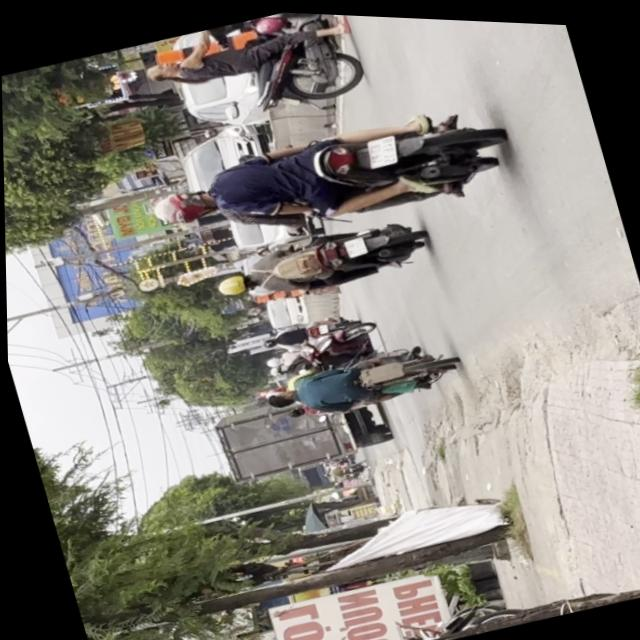helmet: (147, 178, 217, 229), (212, 265, 253, 297)
licenseplate: (134, 74, 519, 274), (131, 5, 379, 152), (205, 201, 433, 315), (251, 321, 462, 432)
motorcyclist: (141, 53, 183, 85), (262, 382, 297, 408)
nohelmet: (362, 129, 399, 165), (340, 231, 367, 255)
